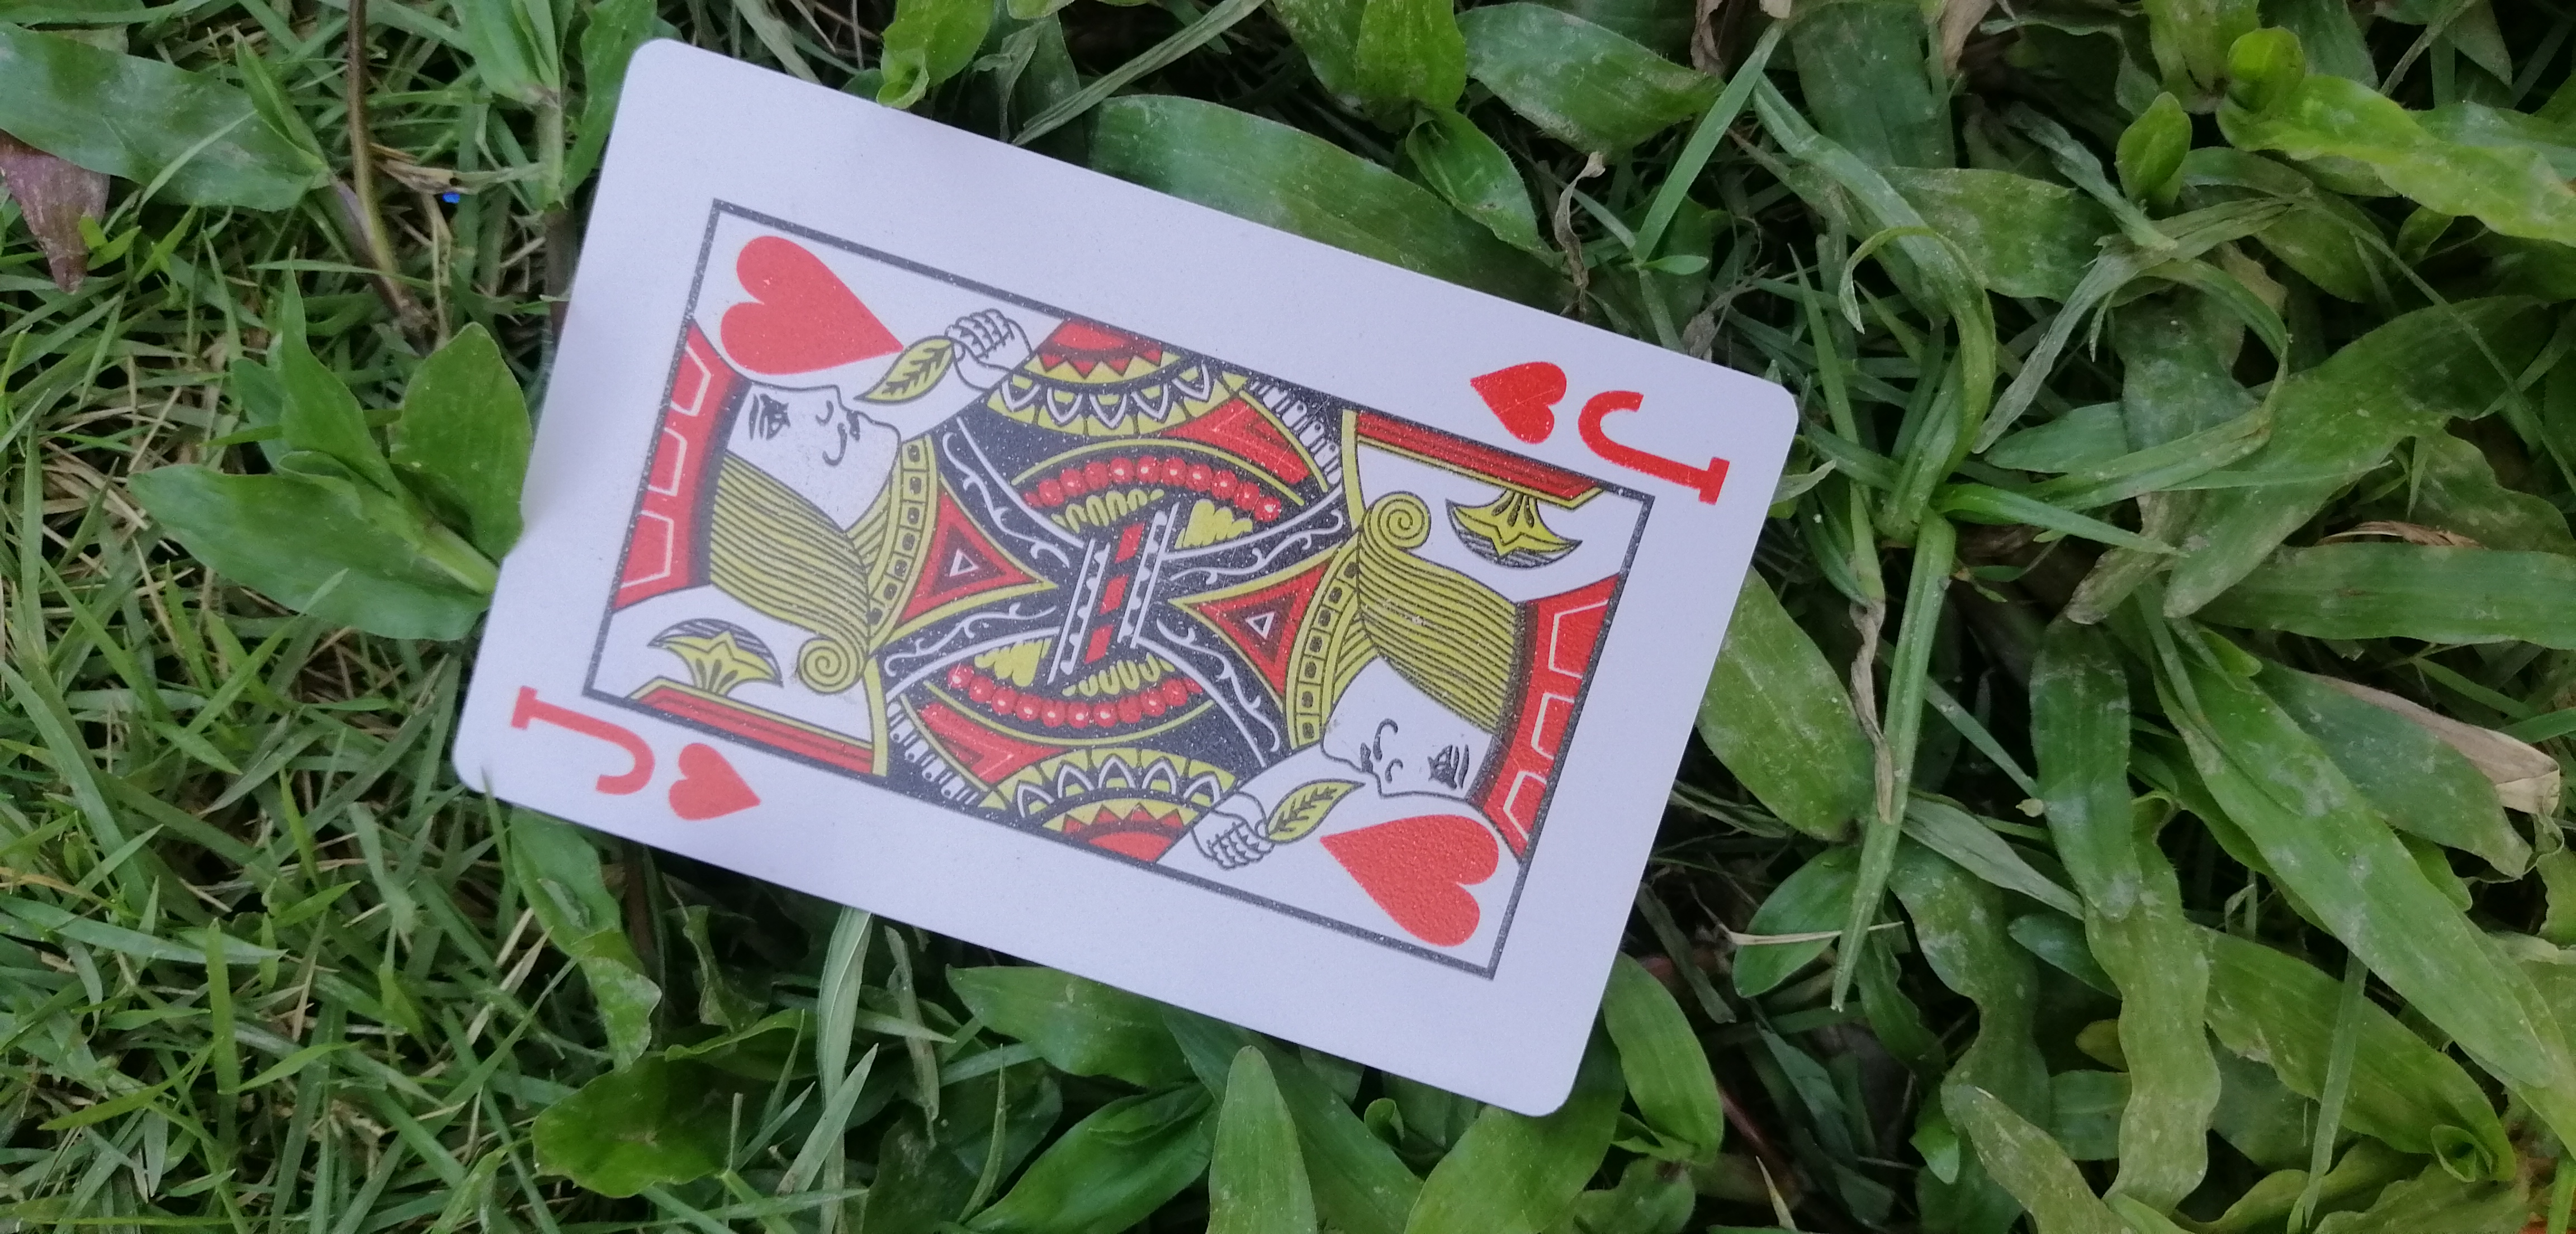jack: (345, 35, 1875, 1144)
